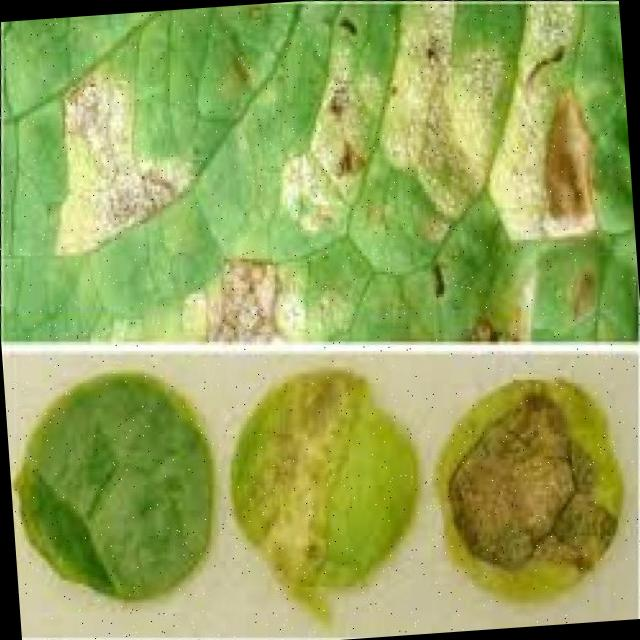Downy_mildew_on_lettuce: (272, 6, 636, 282), (218, 365, 439, 626), (428, 360, 639, 626)
